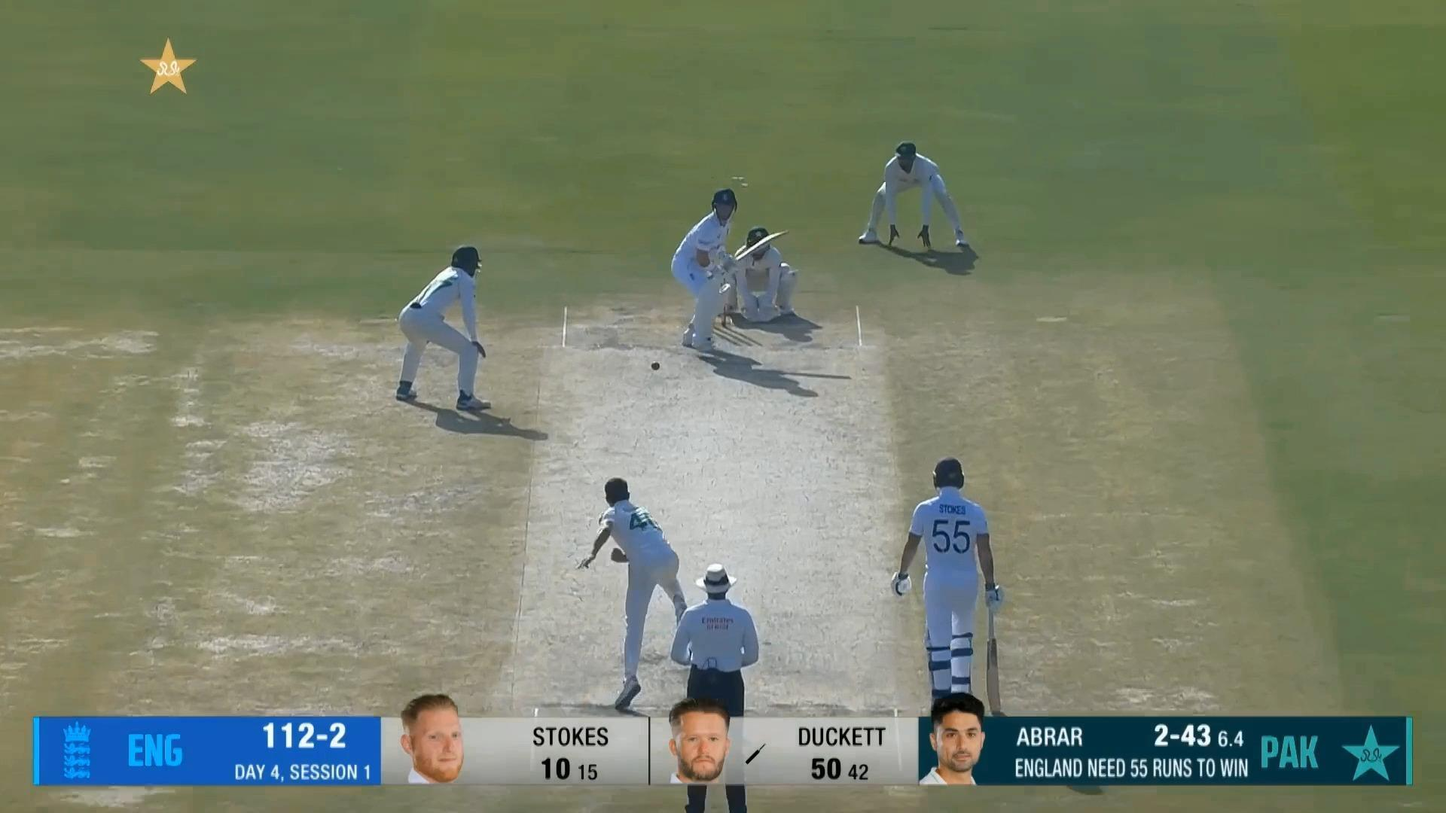BM 1: (669, 186, 791, 352)
BO: (572, 473, 694, 715)
